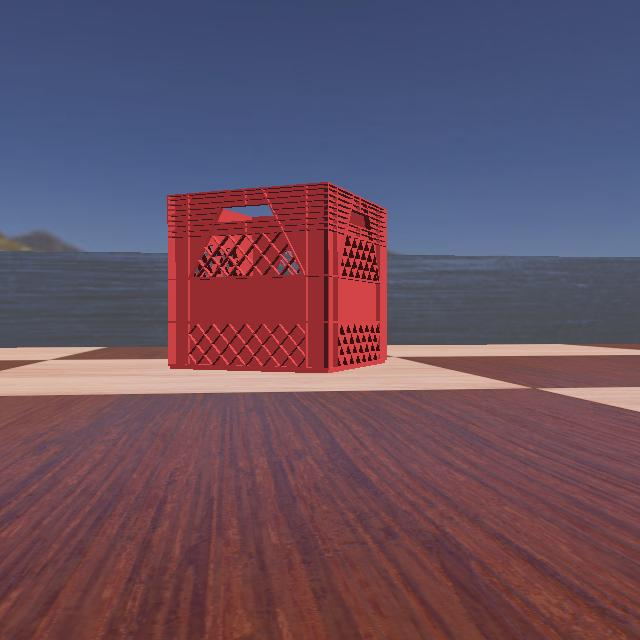plastic-crate: (152, 181, 402, 373)
